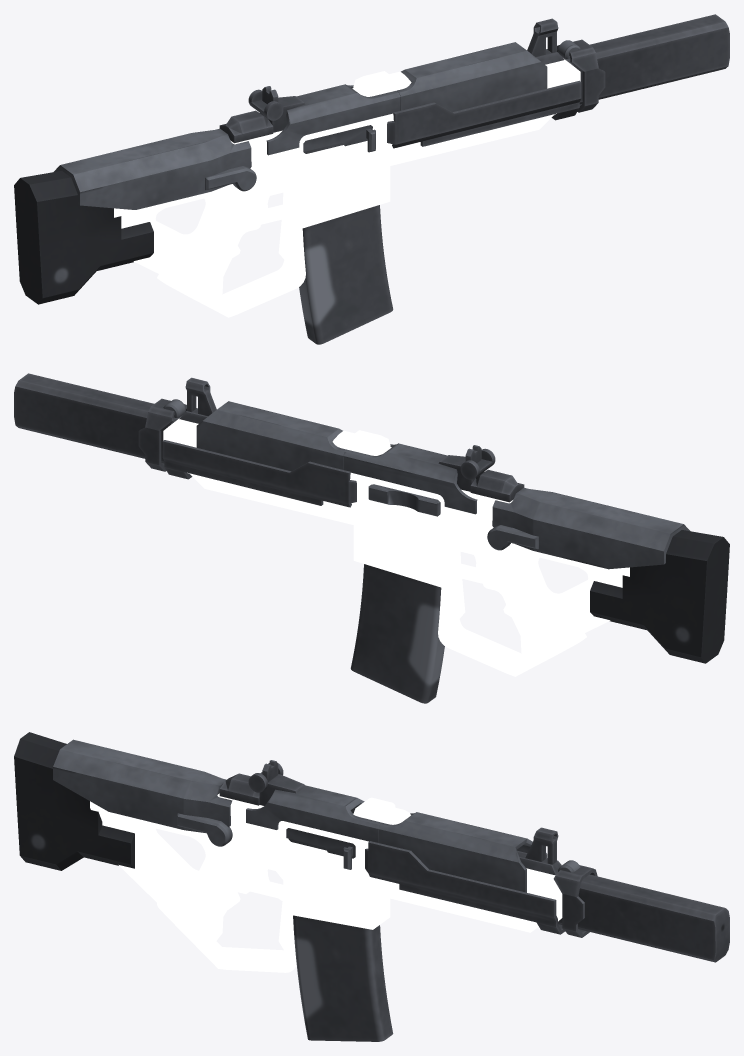
File: Mid_TriShot.glb
3 views of the same model, one above another, from view 1: azimuth 30°, elevation 25°; view 2: azimuth 150°, elevation 25°; view 3: azimuth 330°, elevation 25° (orthographic).
Parts seen in each view (by area): view 1: add1_lo_ADD_0, clip_lo_Scope_0, body_lo_Material_0; view 2: add1_lo_ADD_0, clip_lo_Scope_0, body_lo_Material_0; view 3: add1_lo_ADD_0, clip_lo_Scope_0, body_lo_Material_0.
Boxes of the visible parts, x1=… form: add1_lo_ADD_0: x1=14, y1=40, x2=580, y2=304; clip_lo_Scope_0: x1=219, y1=14, x2=729, y2=344; body_lo_Material_0: x1=114, y1=58, x2=580, y2=317; add1_lo_ADD_0: x1=163, y1=399, x2=729, y2=663; clip_lo_Scope_0: x1=14, y1=373, x2=524, y2=703; body_lo_Material_0: x1=163, y1=418, x2=629, y2=676; add1_lo_ADD_0: x1=14, y1=732, x2=580, y2=892; clip_lo_Scope_0: x1=219, y1=760, x2=729, y2=1041; body_lo_Material_0: x1=90, y1=793, x2=562, y2=972.
Size of the model in its own units: 7.01 by 2.52 by 0.5316.
Materials: 3 (3 with a texture image).
